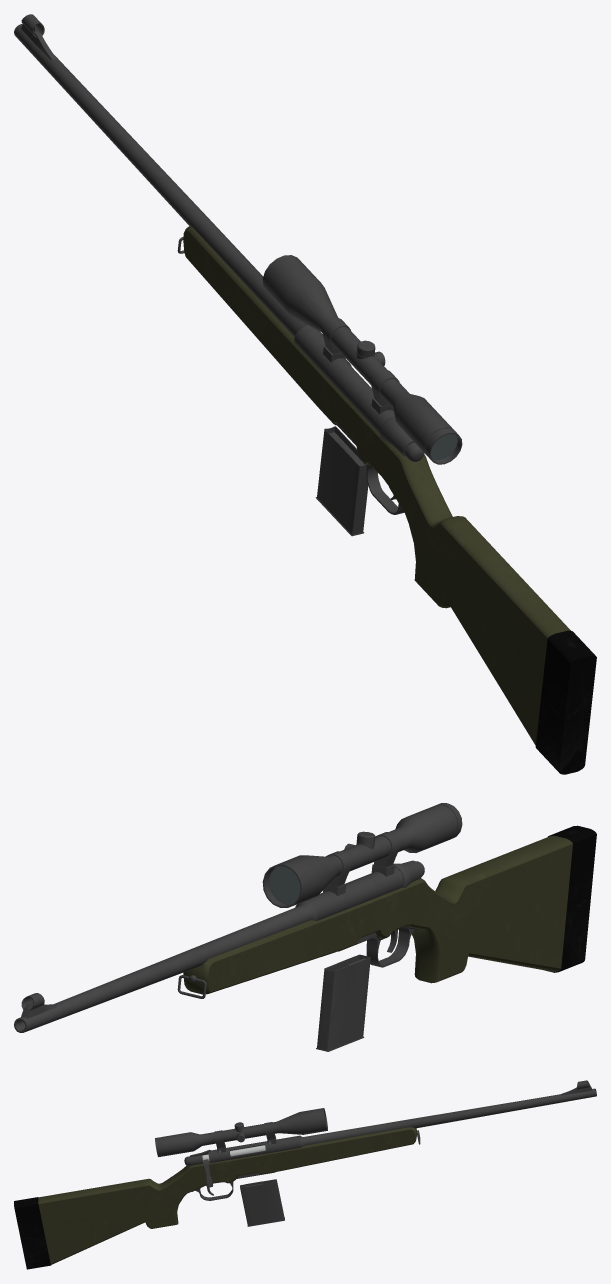
File: sniper.glb
3 renders of one model, top to bottom at view 1: azimuth 30°, elevation 25°; view 2: azimuth 150°, elevation 25°; view 3: azimuth 270°, elevation 25°, orthographic. The views are drawn at different scales.
Parts seen in each view (by area): view 1: Stock, Barrel, Scope, Magazine; view 2: Stock, Barrel, Scope, Magazine, IronSight; view 3: Stock, Barrel, Scope, Magazine, Bolt.
Boxes of the visible parts, x1,y1,x2,y2 form: Stock: (183,226,596,774); Barrel: (14,24,414,514); Scope: (262,255,462,464); Magazine: (315,426,368,536); Stock: (183,825,596,994); Barrel: (14,860,422,1032); Scope: (262,803,462,907); Magazine: (316,954,370,1051); IronSight: (21,993,57,1018); Stock: (14,1127,417,1269); Barrel: (190,1088,596,1200); Scope: (155,1108,327,1157); Magazine: (240,1179,284,1226); Bolt: (184,1145,265,1187).
Bounding box in the file's own units: 0.0568 × 0.3966 × 1.12.
1 material, 1 textured.
